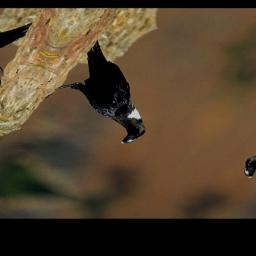Crow: (29, 37, 194, 149)
